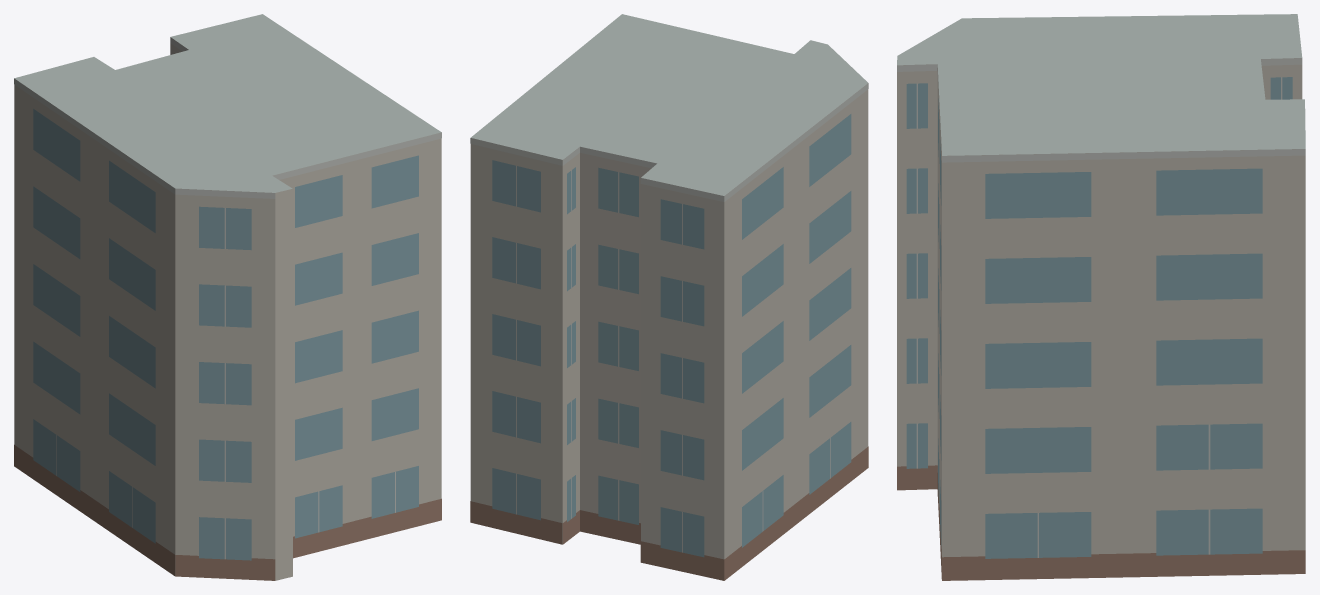
File: survey-upis-32880498.glb
3 renders of one model, left to right at view 1: azimuth 30°, elevation 25°; view 2: azimuth 150°, elevation 25°; view 3: azimuth 270°, elevation 25°, orthographic. The views are drawn at different scales.
Visible parts, largest first — view 1: survey-upis-32880498.tmp; view 2: survey-upis-32880498.tmp; view 3: survey-upis-32880498.tmp.
Part boxes in pixels (x1=…): survey-upis-32880498.tmp: x1=14, y1=14, x2=441, y2=580; survey-upis-32880498.tmp: x1=470, y1=14, x2=868, y2=580; survey-upis-32880498.tmp: x1=897, y1=14, x2=1305, y2=580.
Size of the model in its own units: 11.11 by 15.5 by 13.52.
